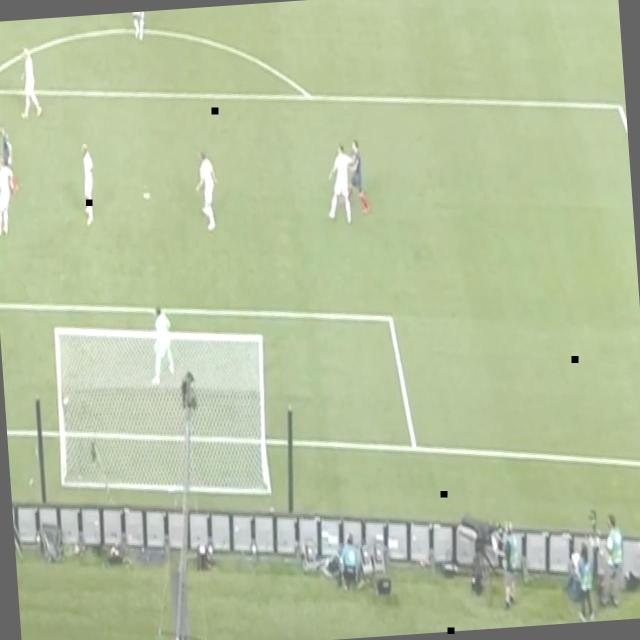player-white: (321, 140, 356, 224), (192, 148, 221, 237), (343, 136, 372, 216), (17, 48, 46, 122), (149, 305, 176, 379), (78, 138, 98, 230), (0, 156, 20, 239), (0, 122, 20, 195), (130, 11, 151, 43), (0, 22, 4, 24)
